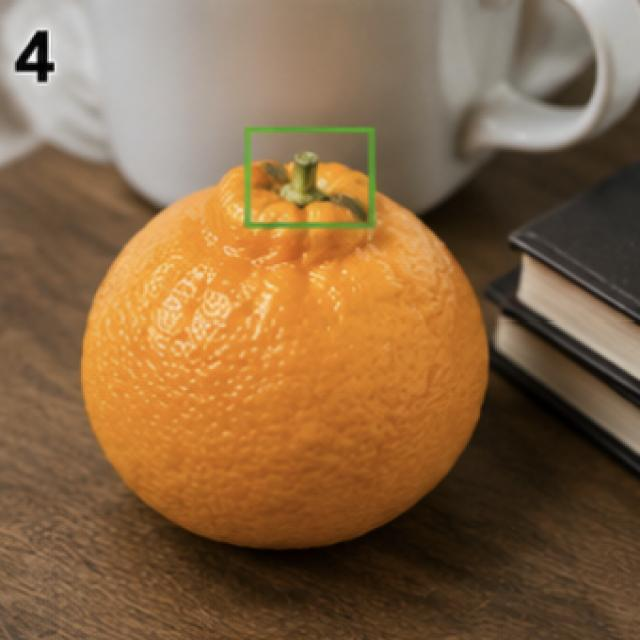Fruit-Stem-Detection: (235, 124, 384, 226)
